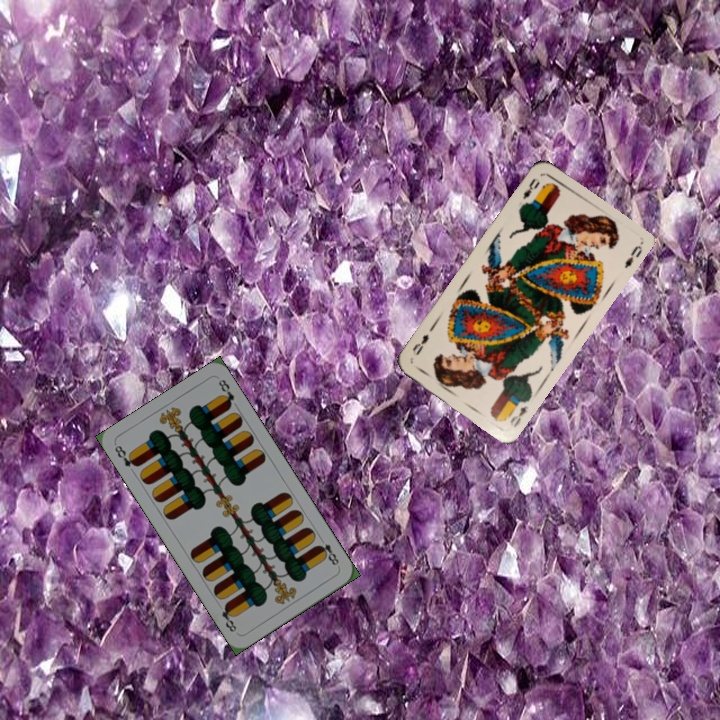E8: (313, 533, 342, 570), (110, 441, 141, 469)
EO: (518, 174, 543, 208), (506, 402, 531, 430)
